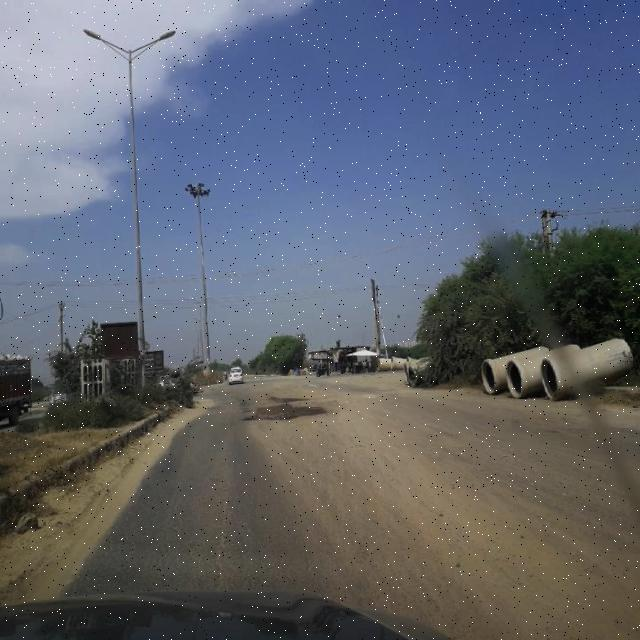D00: (166, 430, 191, 575), (214, 436, 238, 582)
D40: (232, 388, 337, 423)
